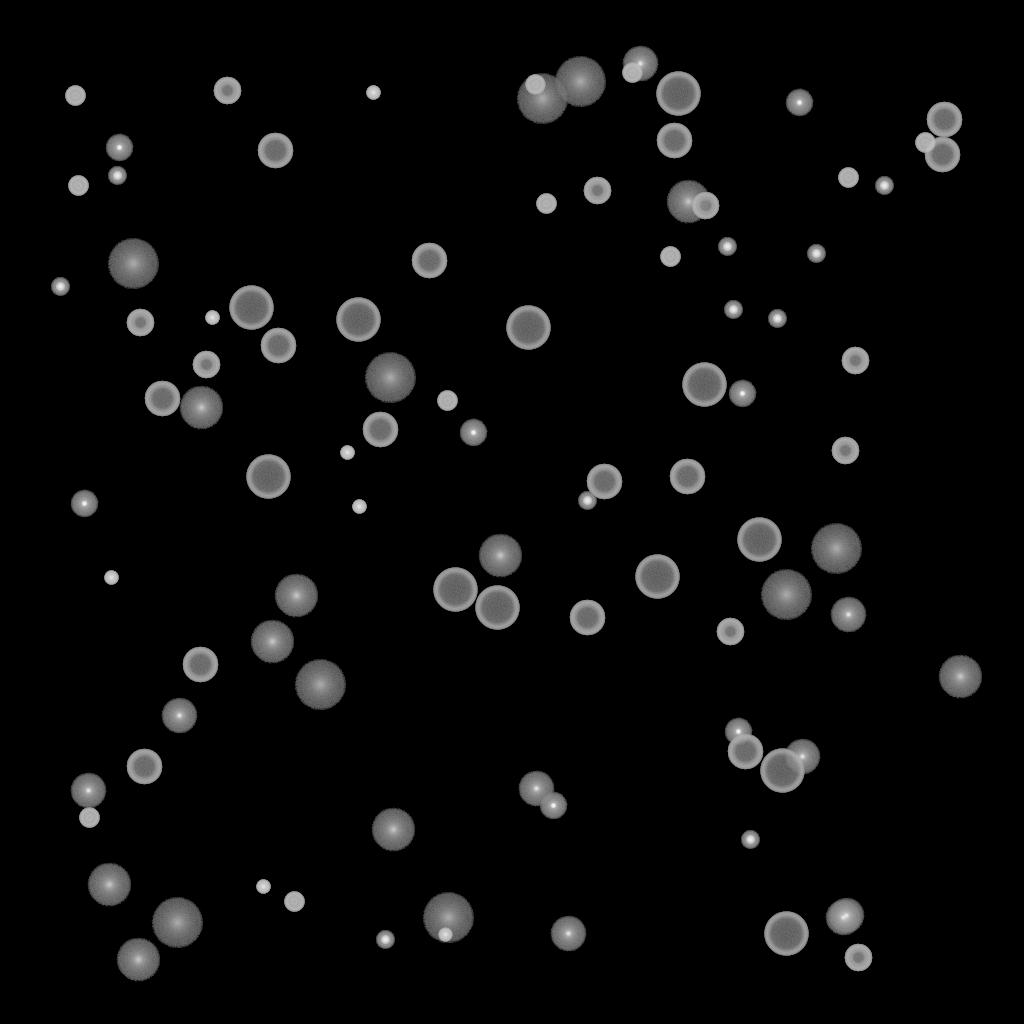depth:-10: (785, 89, 813, 117), (105, 134, 133, 162), (724, 718, 752, 746), (539, 792, 567, 820), (728, 380, 756, 408), (459, 419, 487, 447), (70, 490, 98, 518)
depth:-20: (768, 310, 786, 328), (724, 301, 742, 319), (108, 167, 126, 185), (51, 278, 69, 296), (807, 245, 825, 263), (376, 931, 394, 949), (875, 177, 893, 195), (741, 831, 759, 849), (578, 492, 596, 510), (718, 238, 736, 256)
depth:-30: (340, 446, 354, 460), (256, 880, 270, 894), (438, 928, 452, 942), (366, 86, 380, 100), (104, 571, 118, 585), (352, 500, 366, 514), (205, 311, 219, 325)
depth:-40: (536, 194, 556, 214), (660, 247, 680, 267), (838, 168, 858, 188), (79, 808, 99, 828), (915, 133, 935, 153), (437, 391, 457, 411), (65, 86, 85, 106), (68, 176, 88, 196), (622, 63, 642, 83), (525, 75, 545, 95), (284, 892, 304, 912)
depth:-50: (716, 618, 744, 646), (126, 309, 154, 337), (691, 192, 719, 220), (192, 351, 220, 379), (841, 347, 869, 375), (844, 944, 872, 972), (831, 437, 859, 465), (583, 177, 611, 205), (213, 77, 241, 105)
depth:-60: (586, 464, 622, 500), (924, 137, 960, 173), (362, 412, 398, 448), (182, 647, 218, 683), (569, 600, 605, 636), (926, 102, 962, 138), (727, 734, 763, 770), (260, 328, 296, 364), (411, 243, 447, 279), (257, 133, 293, 169), (669, 459, 705, 495), (144, 381, 180, 417), (126, 749, 162, 785), (656, 123, 692, 159)
depth:-70: (246, 455, 290, 499), (475, 586, 519, 630), (764, 912, 808, 956), (229, 286, 273, 330), (336, 298, 380, 342), (682, 363, 726, 407), (506, 306, 550, 350), (433, 568, 477, 612), (737, 518, 781, 562), (656, 72, 700, 116), (635, 555, 679, 599), (760, 749, 804, 793)
depth:0: (550, 916, 586, 952), (518, 771, 554, 807), (161, 698, 197, 734), (622, 46, 658, 82), (830, 597, 866, 633), (828, 898, 864, 934), (825, 900, 861, 936), (70, 773, 106, 809), (784, 739, 820, 775)
depth:10: (478, 534, 522, 578), (371, 808, 415, 852), (116, 938, 160, 982), (938, 655, 982, 699), (274, 574, 318, 618), (179, 386, 223, 430), (87, 863, 131, 907), (250, 620, 294, 664), (666, 180, 710, 224)
depth:20: (107, 239, 159, 289), (516, 74, 568, 124), (364, 353, 416, 403), (760, 570, 812, 620), (151, 898, 203, 948), (810, 524, 862, 574), (554, 57, 606, 107), (422, 893, 474, 943), (294, 660, 346, 710)
